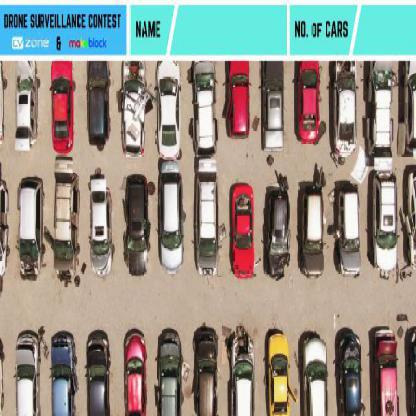car: (157, 163, 184, 275), (120, 61, 151, 158), (53, 162, 79, 277), (193, 161, 218, 277), (262, 184, 290, 282), (155, 61, 183, 158), (18, 178, 44, 282), (366, 61, 393, 157), (299, 334, 331, 415), (371, 328, 400, 415), (258, 60, 285, 153), (125, 177, 150, 277), (293, 60, 322, 145), (15, 330, 44, 415), (300, 185, 326, 279), (89, 174, 112, 279), (335, 332, 364, 415), (194, 326, 221, 415), (337, 185, 363, 277), (50, 333, 79, 415), (231, 182, 255, 281), (192, 61, 217, 154), (85, 333, 113, 415), (335, 64, 358, 162), (377, 171, 398, 275), (230, 332, 256, 415), (157, 332, 183, 414), (122, 332, 147, 415), (266, 333, 291, 415), (51, 63, 74, 152), (226, 61, 251, 140), (16, 64, 38, 152), (88, 61, 111, 145), (403, 62, 415, 155)
